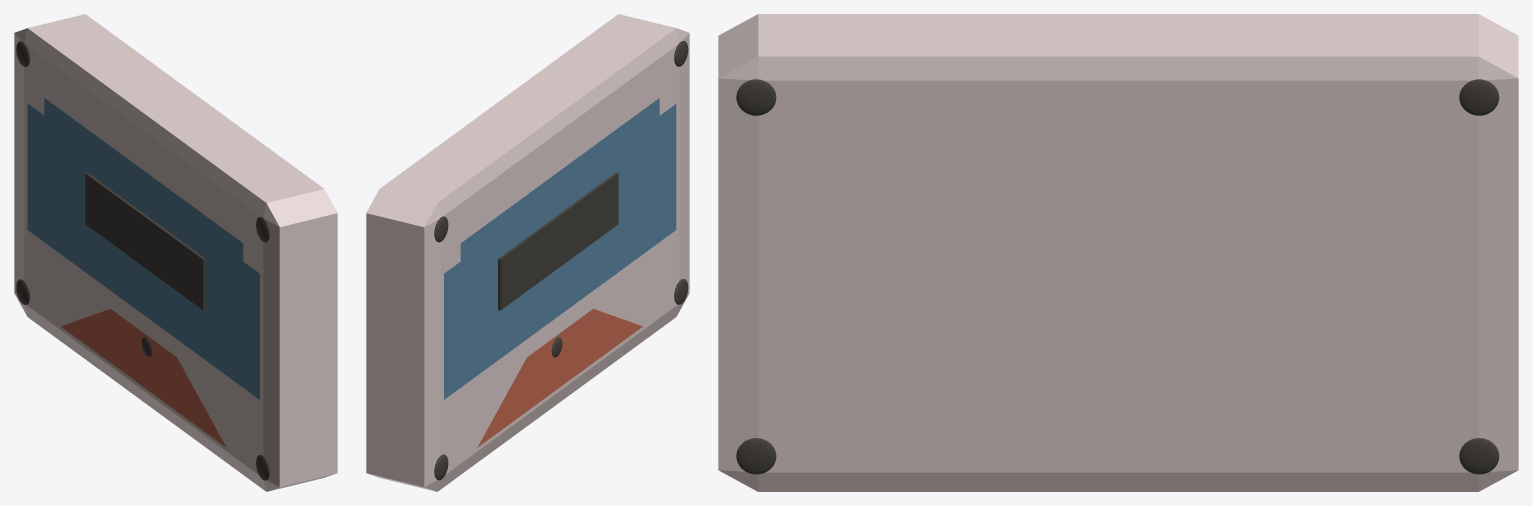
Rendered from cassette.fbx.
3 views of the same model, side by side, from view 1: azimuth 30°, elevation 25°; view 2: azimuth 150°, elevation 25°; view 3: azimuth 270°, elevation 25° (orthographic). The views are drawn at different scales.
Parts seen in each view (by area): view 1: Cube, Cube.001, Cube.003, Cube.002; view 2: Cube, Cube.001, Cube.003, Cube.002; view 3: Cube, Sphere.005, Sphere.006, Sphere.008, Sphere.007.
Part boxes in pixels (x1,y1,x2,y2): Cube: [14, 14, 337, 491]; Cube.001: [27, 98, 259, 399]; Cube.003: [85, 173, 205, 310]; Cube.002: [61, 309, 226, 447]; Cube: [366, 14, 689, 491]; Cube.001: [444, 98, 676, 399]; Cube.003: [498, 173, 618, 310]; Cube.002: [477, 309, 642, 447]; Cube: [718, 14, 1518, 491]; Sphere.005: [736, 79, 776, 115]; Sphere.006: [736, 438, 776, 474]; Sphere.008: [1459, 438, 1499, 474]; Sphere.007: [1459, 79, 1499, 115].
Size of the model in its own units: 30.77 by 120 by 200.
